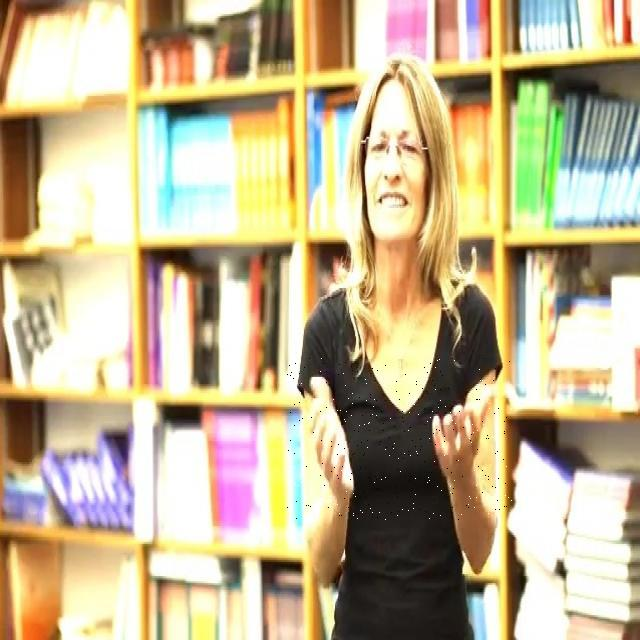what: (286, 358, 512, 520)
